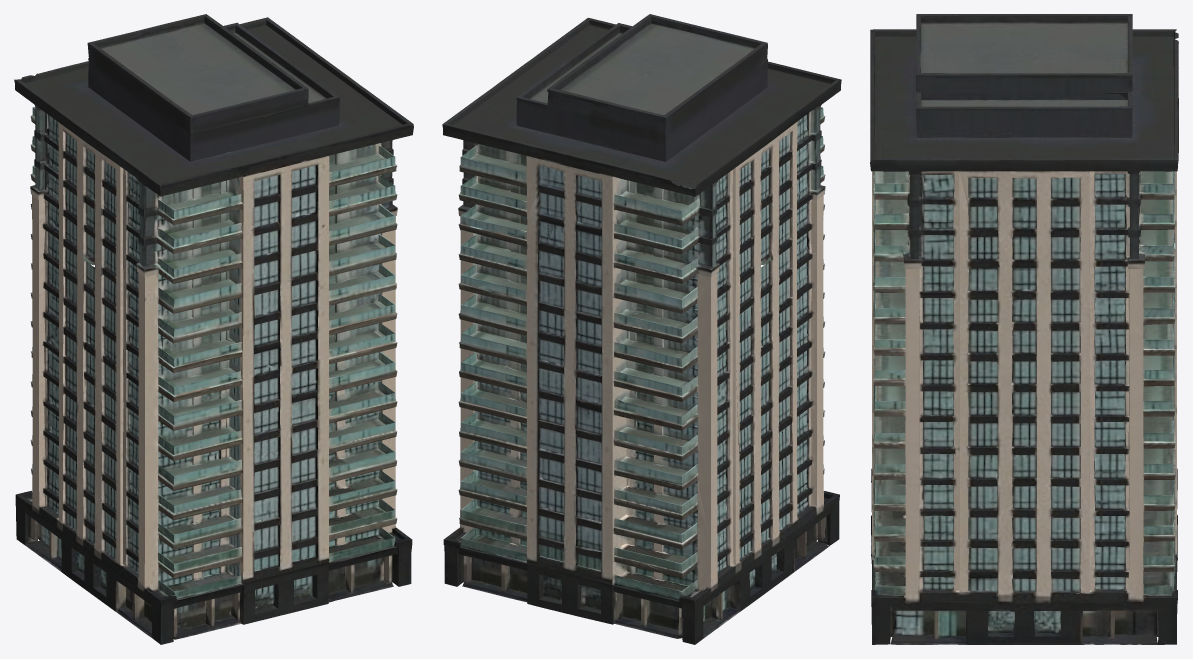
File: bld_nexus.glb
The picture shows the model from 3 angles, left to right: view 1: azimuth 30°, elevation 25°; view 2: azimuth 150°, elevation 25°; view 3: azimuth 270°, elevation 25°; orthographic projection. The views are drawn at different scales.
Parts seen in each view (by area): view 1: bld_nexus; view 2: bld_nexus; view 3: bld_nexus.
Part boxes in pixels (x1,y1,x2,y2): bld_nexus: (14,14,413,644); bld_nexus: (442,14,841,644); bld_nexus: (870,14,1178,644).
Bounding box in the file's own units: 1.01 × 1.9 × 1.01.
Materials: 1 (1 with a texture image).
